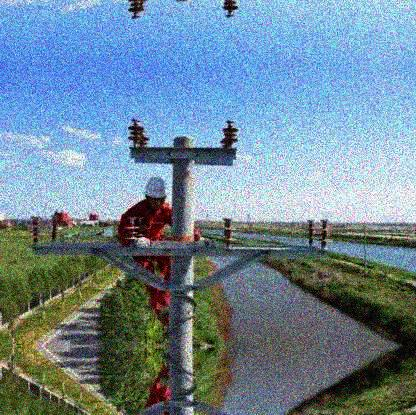helmet: (143, 176, 168, 212)
